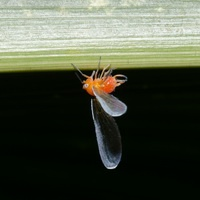insect: (72, 61, 126, 168)
